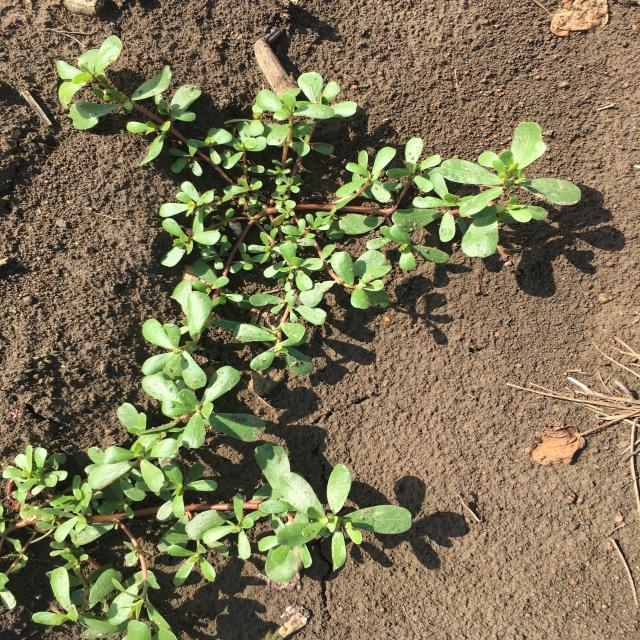Purslane: (0, 35, 581, 390), (0, 365, 412, 640)
